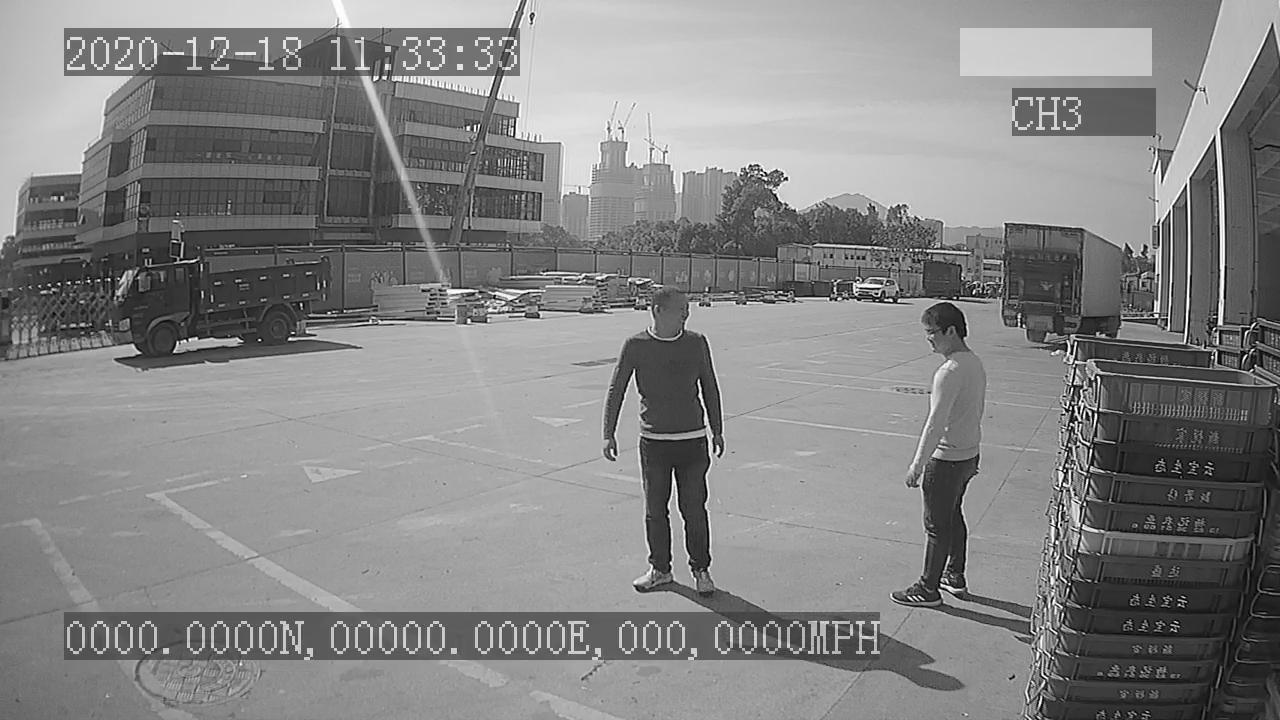person: (601, 282, 730, 595), (887, 298, 991, 612)
